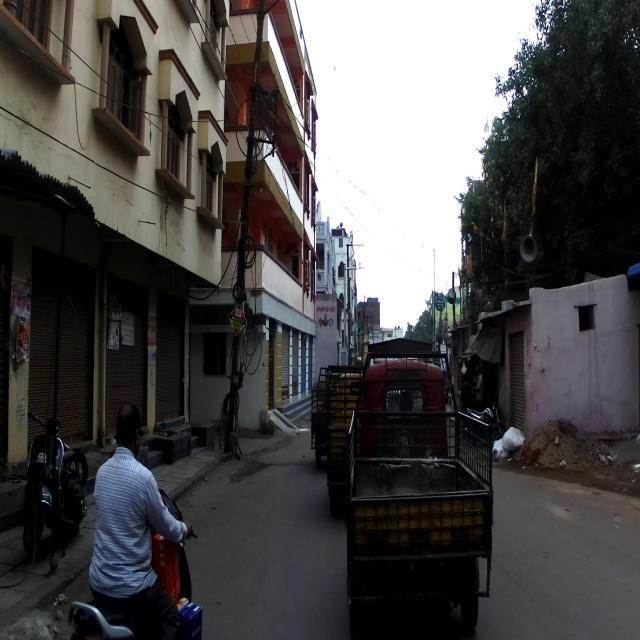autorickshaw: (340, 336, 494, 639), (309, 364, 366, 470)
scooter: (64, 486, 203, 638), (19, 408, 89, 556)
